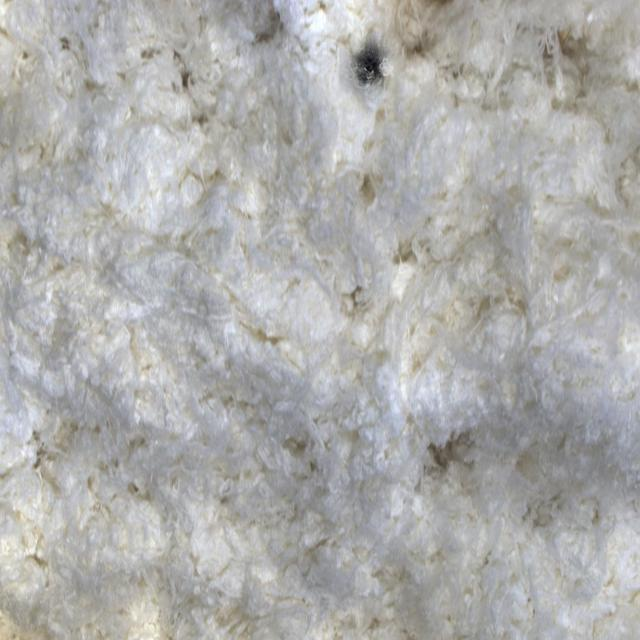dust: (339, 13, 406, 119)
